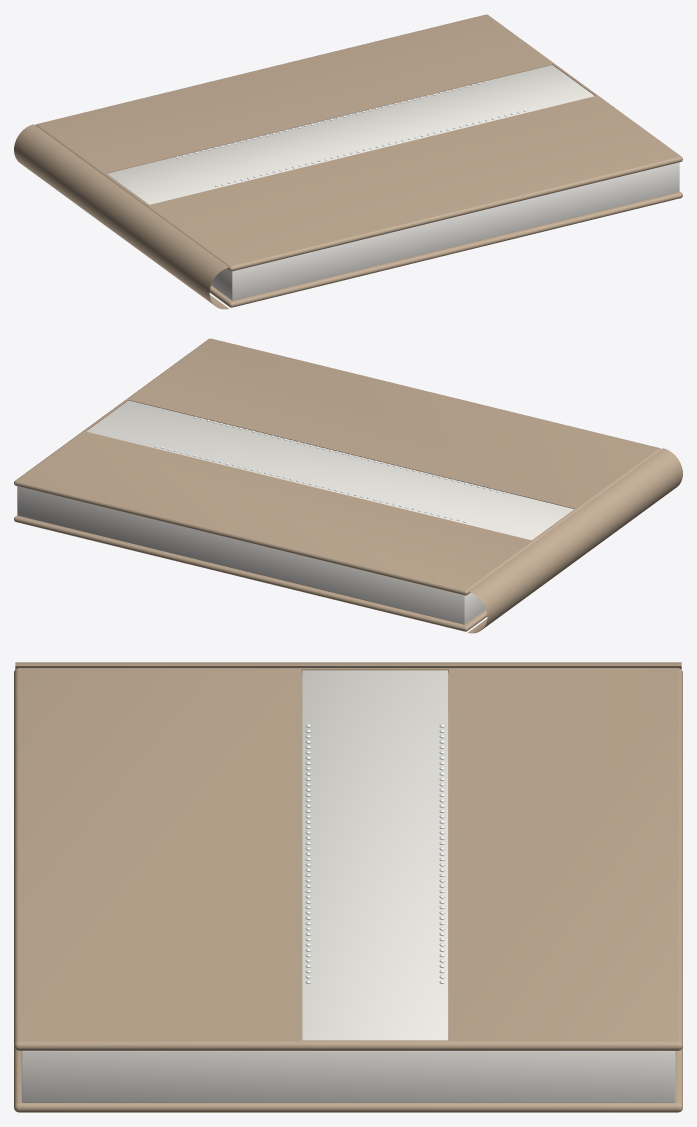
Rendered from fascia-ornament--landscape.glb.
The picture shows the model from 3 angles, top to bottom: view 1: azimuth 30°, elevation 25°; view 2: azimuth 150°, elevation 25°; view 3: azimuth 270°, elevation 25°; orthographic projection. The views are drawn at different scales.
Visible parts, largest first — view 1: CoverFront, Band, Pages, Spine, CoverBack; view 2: CoverFront, Band, Pages, Spine, CoverBack; view 3: CoverFront, Band, Pages, CoverBack, Spine, Crystal, Crystal.001.
Part boxes in pixels (left/top/right/bottom): CoverFront: left=35, top=14, right=682, bottom=271; Band: left=107, top=65, right=594, bottom=204; Pages: left=211, top=162, right=679, bottom=300; Spine: left=14, top=124, right=228, bottom=309; CoverBack: left=209, top=191, right=682, bottom=307; CoverFront: left=14, top=338, right=661, bottom=595; Band: left=86, top=400, right=573, bottom=540; Pages: left=17, top=486, right=485, bottom=624; Spine: left=468, top=448, right=682, bottom=633; CoverBack: left=14, top=515, right=487, bottom=631; CoverFront: left=14, top=668, right=682, bottom=1050; Band: left=302, top=670, right=448, bottom=1040; Pages: left=21, top=1051, right=675, bottom=1102; CoverBack: left=14, top=1047, right=682, bottom=1112; Spine: left=15, top=662, right=681, bottom=669; Crystal: left=439, top=724, right=444, bottom=983; Crystal.001: left=305, top=724, right=310, bottom=983.
Size of the model in its own units: 0.4179 by 0.0361 by 0.3.
